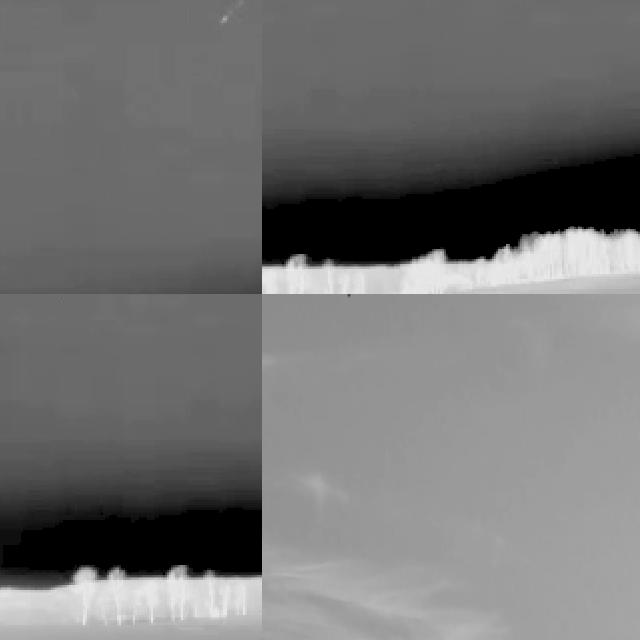0: (207, 3, 239, 38)
drone: (342, 294, 354, 302)
